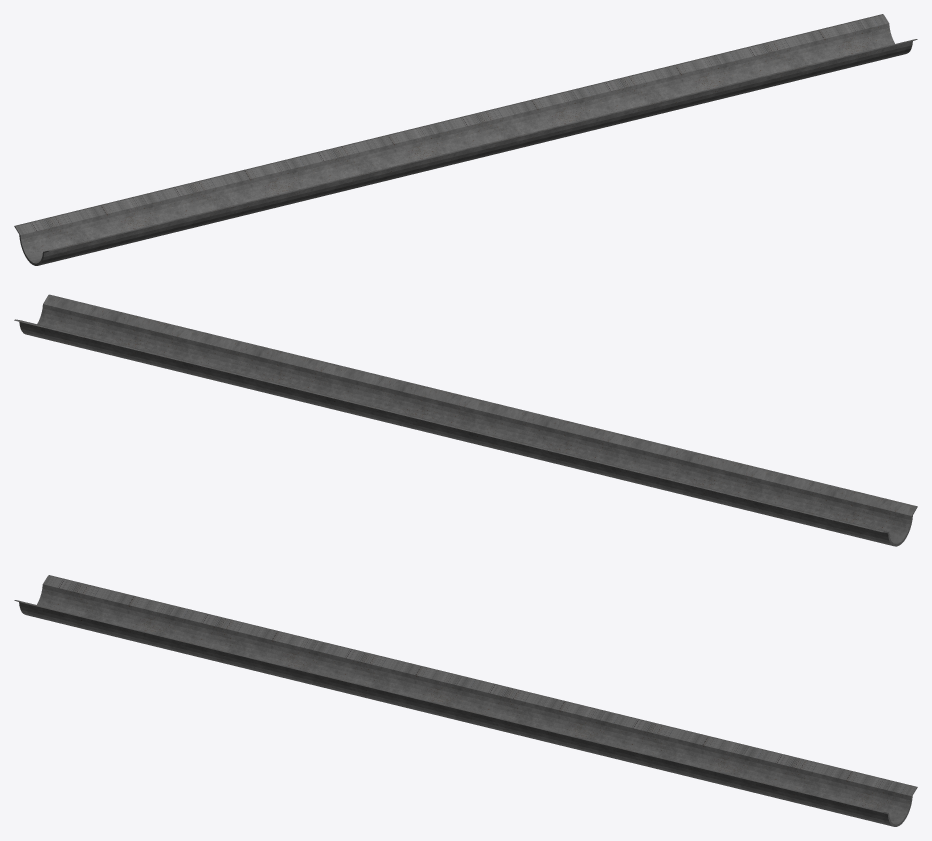
Rendered from horozotalRainDrain.fbx.
The picture shows the model from 3 angles, top to bottom: view 1: azimuth 30°, elevation 25°; view 2: azimuth 150°, elevation 25°; view 3: azimuth 330°, elevation 25°; orthographic projection.
Visible parts, largest first — view 1: Cylinder.002; view 2: Cylinder.002; view 3: Cylinder.002.
Boxes of the visible parts, bbox=[...] form: Cylinder.002: bbox=[14, 14, 917, 265]; Cylinder.002: bbox=[14, 294, 917, 546]; Cylinder.002: bbox=[14, 575, 917, 826].
Bounding box in the file's own units: 200 × 5.62 × 14.05.
